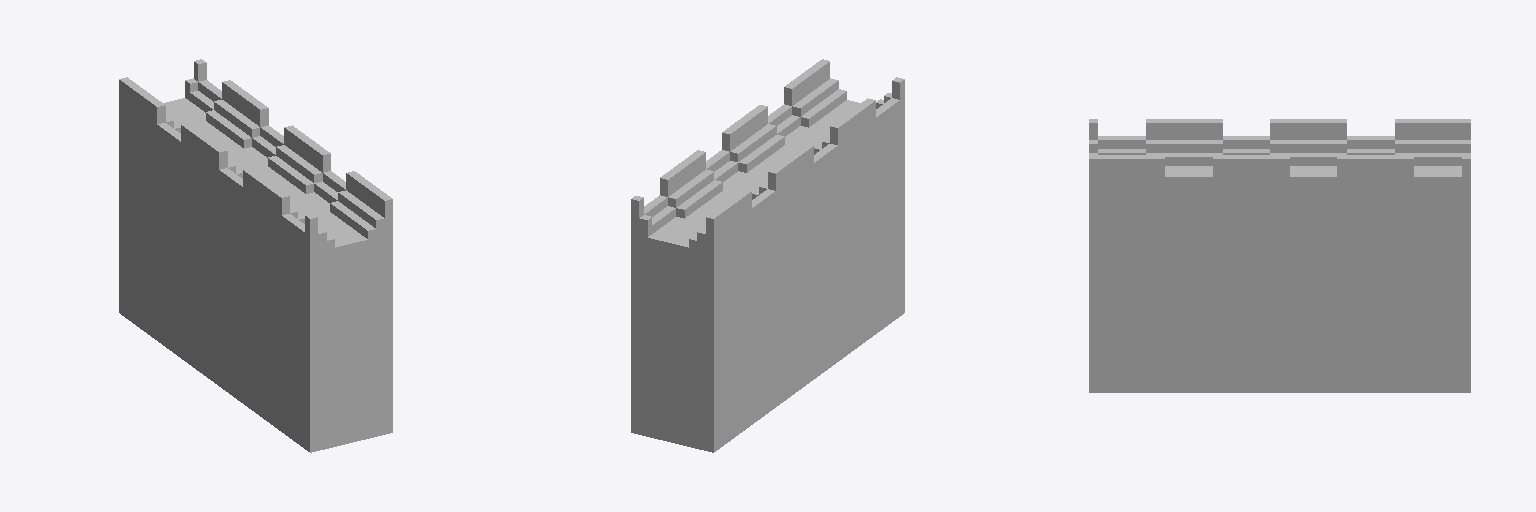
File: Wall.obj
The picture shows the model from 3 angles: view 1: azimuth 30°, elevation 25°; view 2: azimuth 150°, elevation 25°; view 3: azimuth 270°, elevation 25°; orthographic projection.
Parts seen in each view (by area): view 1: object 1; view 2: object 1; view 3: object 1.
Boxes of the visible parts, x1=… form: object 1: x1=119, y1=59, x2=392, y2=452; object 1: x1=631, y1=59, x2=904, y2=452; object 1: x1=1089, y1=119, x2=1470, y2=392.
Size of the model in its own units: 1 by 2.7 by 4.